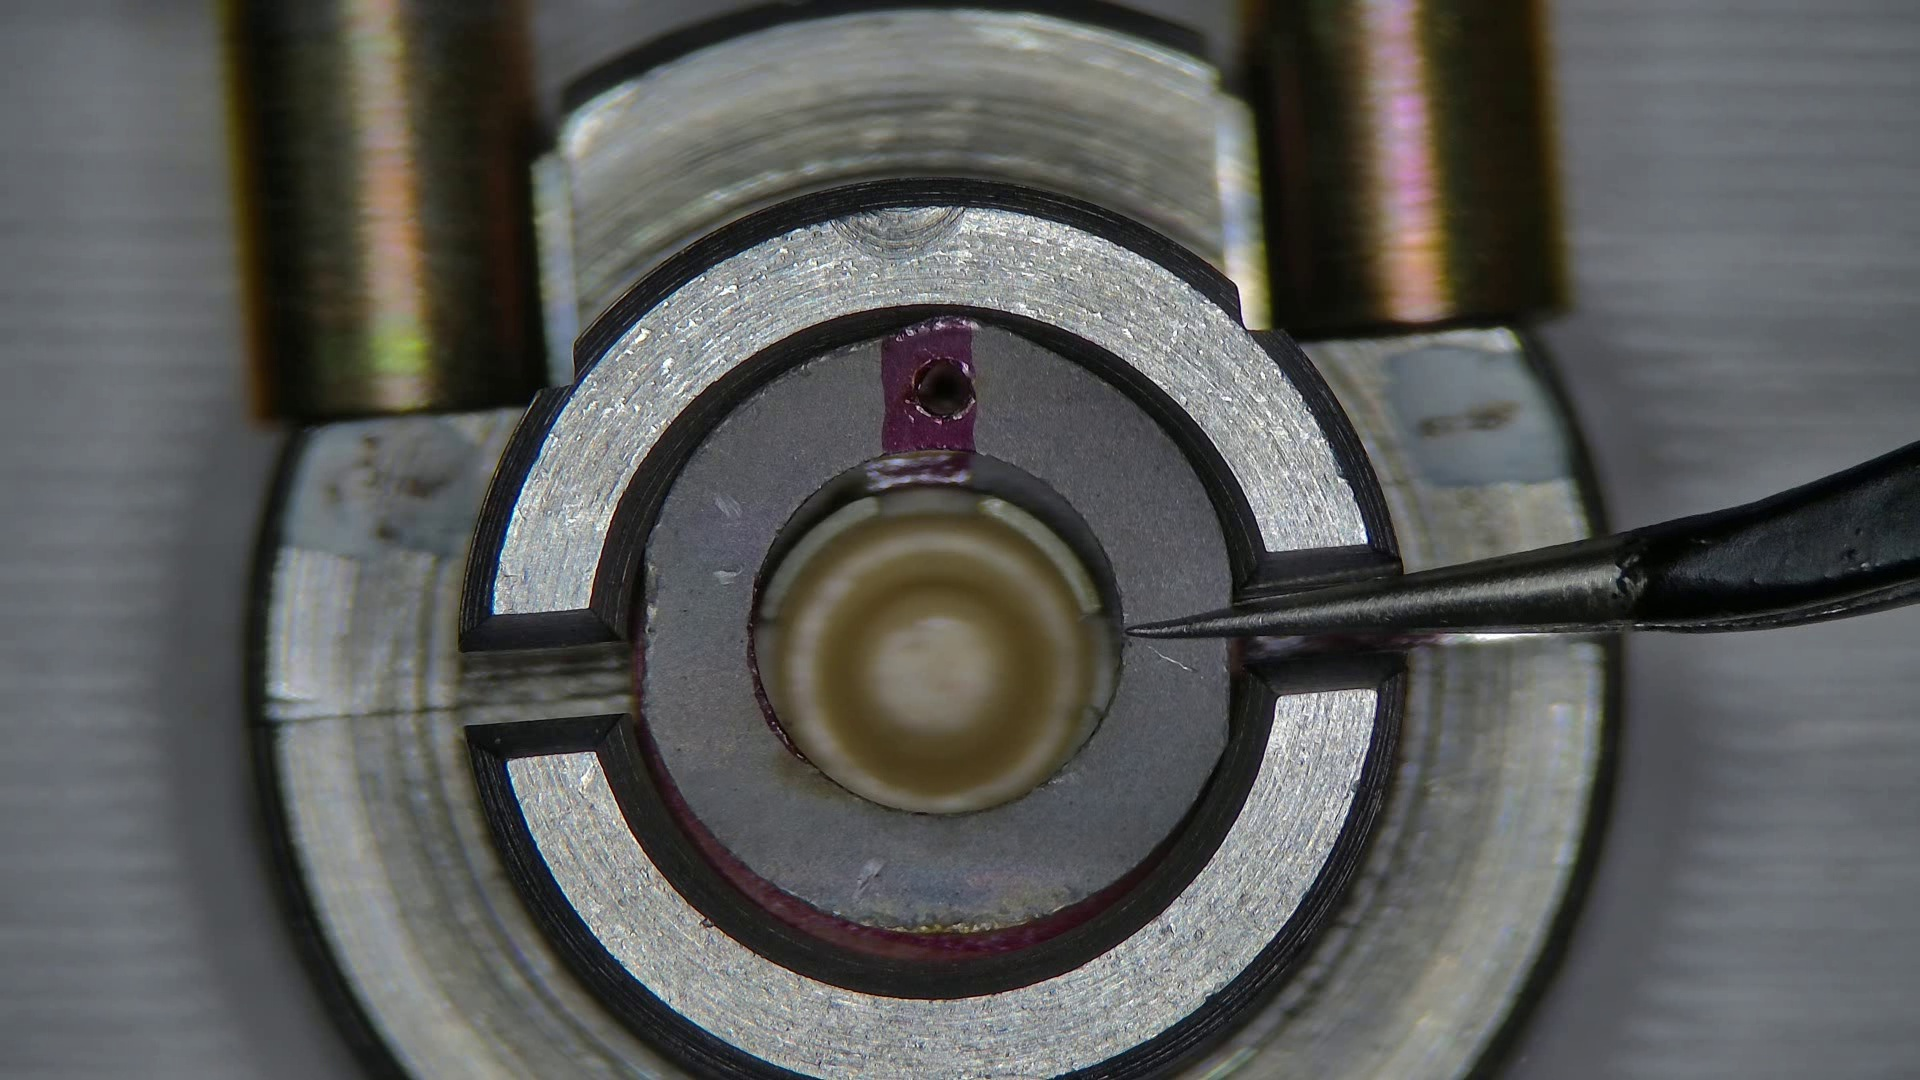GreyOring: (647, 731, 1175, 955)
YellowOring: (640, 320, 1234, 928)
